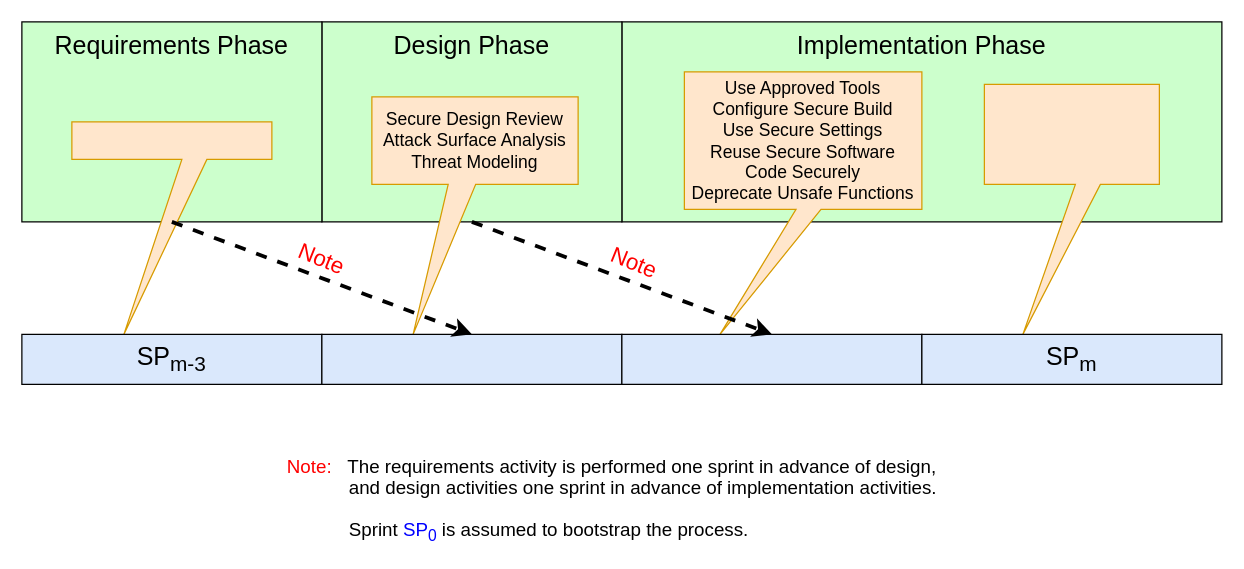
Some shapes in this 1244 by 569 pixel diagram are drawn without their labels. The shapes that lost their labels are listed below. From the top down, each one's centre as x and y in pixels, then its label:
the point at 171,227: Security Requirements
the point at 1071,208: Static Analysis Dynamic Analysis Fuzz Testing Secure Code Review
the point at 471,358: SP m-2
the point at 771,358: SP m-1
